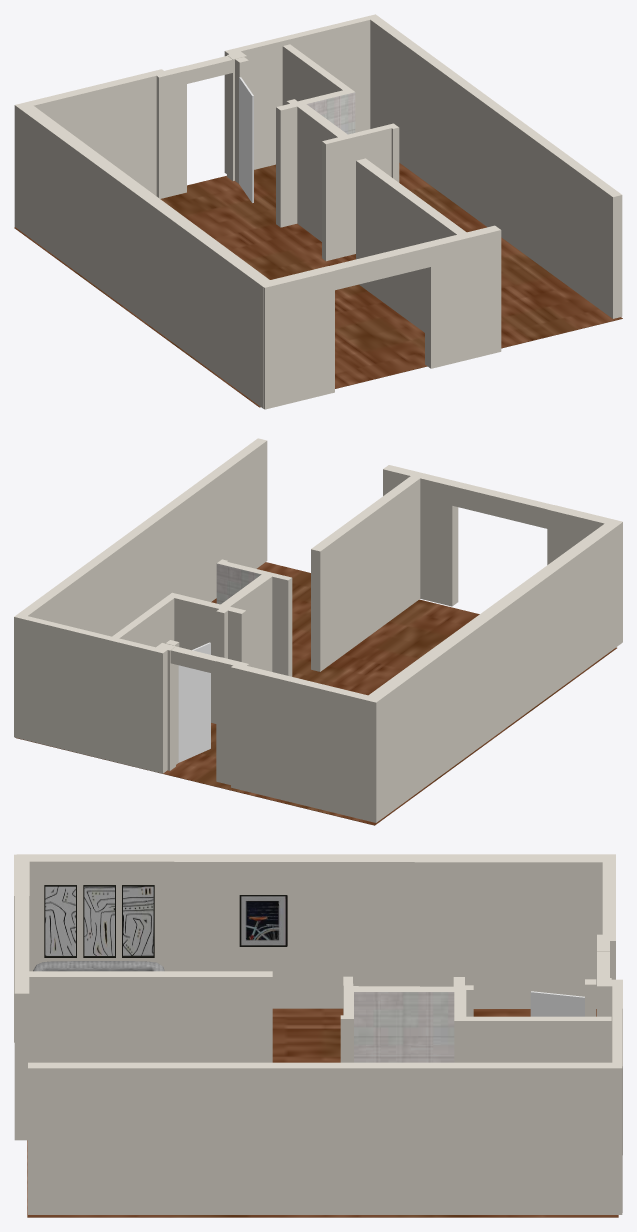
Rendered from Project Name_V1.glb.
3 renders of one model, top to bottom at view 1: azimuth 30°, elevation 25°; view 2: azimuth 150°, elevation 25°; view 3: azimuth 270°, elevation 25°, orthographic. The views are drawn at different scales.
Visible parts, largest first — view 1: Line016, Line017, Box001, Line009, Box147, Box146, Box144, Box150, Box154, THE CHARLES TEST1, Box152, Box201; view 2: Line016, Line017, Box144, Box001, Line009, Box147, Box154, Box150, Box146, THE CHARLES TEST1, Box152; view 3: Line017, Line016, Box144, Line009, THE CHARLES TEST1, Box001, Box147, Box040, Box042, Box044, Buffer Object, Box154 (+2 smaller).
Part boxes in pixels (x1=…): Line016: x1=14, y1=67, x2=276, y2=408; Line017: x1=224, y1=14, x2=622, y2=318; Box001: x1=14, y1=163, x2=622, y2=407; Line009: x1=276, y1=44, x2=399, y2=261; Box147: x1=425, y1=225, x2=501, y2=368; Box146: x1=263, y1=266, x2=334, y2=409; Box144: x1=356, y1=158, x2=467, y2=332; Box150: x1=328, y1=242, x2=430, y2=290; Box154: x1=239, y1=77, x2=253, y2=202; THE CHARLES TEST1: x1=306, y1=92, x2=355, y2=134; Box152: x1=182, y1=55, x2=233, y2=83; Box201: x1=235, y1=57, x2=248, y2=183; Line016: x1=216, y1=519, x2=622, y2=822; Line017: x1=14, y1=438, x2=267, y2=773; Box144: x1=311, y1=475, x2=420, y2=671; Box001: x1=15, y1=562, x2=616, y2=825; Line009: x1=112, y1=559, x2=292, y2=723; Box147: x1=383, y1=465, x2=458, y2=606; Box154: x1=178, y1=642, x2=210, y2=762; Box150: x1=452, y1=481, x2=553, y2=528; Box146: x1=547, y1=505, x2=622, y2=642; THE CHARLES TEST1: x1=216, y1=563, x2=261, y2=604; Box152: x1=170, y1=646, x2=220, y2=674; Line017: x1=28, y1=978, x2=622, y2=1214; Line016: x1=16, y1=854, x2=615, y2=1008; Box144: x1=26, y1=971, x2=272, y2=1062; Line009: x1=340, y1=976, x2=611, y2=1062; THE CHARLES TEST1: x1=241, y1=896, x2=454, y2=1062; Box001: x1=27, y1=1008, x2=618, y2=1217; Box147: x1=14, y1=952, x2=29, y2=1140; Box040: x1=84, y1=886, x2=114, y2=955; Box042: x1=45, y1=886, x2=75, y2=955; Box044: x1=123, y1=886, x2=153, y2=955; Buffer Object: x1=33, y1=961, x2=164, y2=971; Box154: x1=530, y1=991, x2=584, y2=1016.
Size of the model in its own units: 1.02 by 0.3323 by 1.23.
22 materials, 16 textured.
